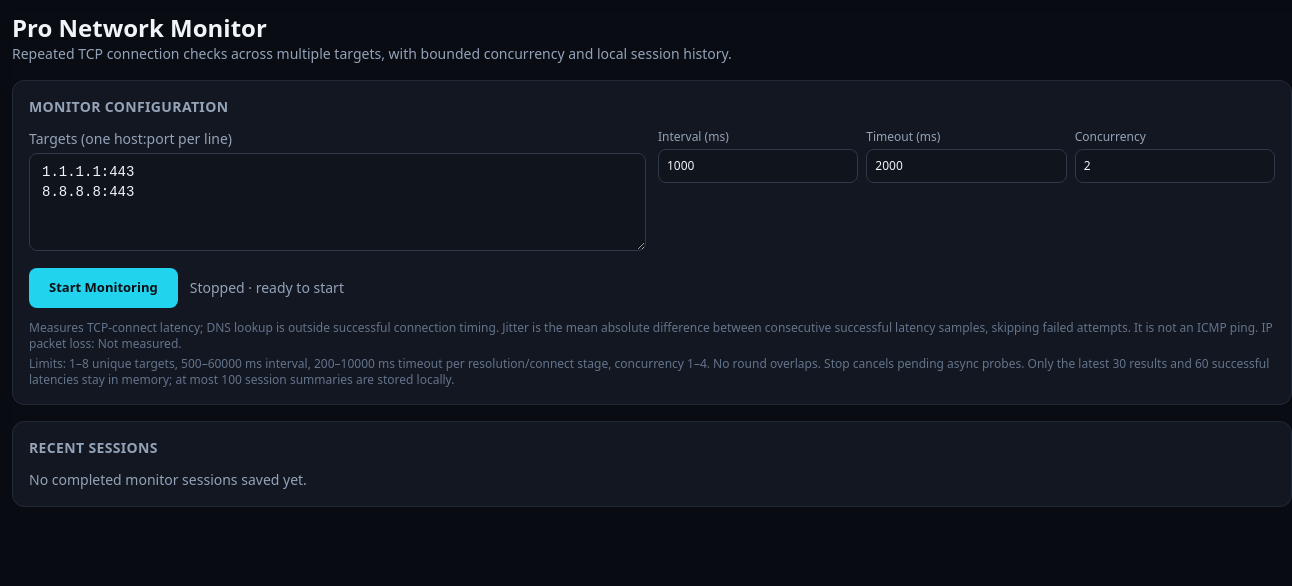
Test: Pro Network Monitor › shows backend start errors and remains restartable
The width and height of the screenshot is (1292, 586).
Click the button "Start Monitoring" at (103, 288), box [29, 268, 178, 308]
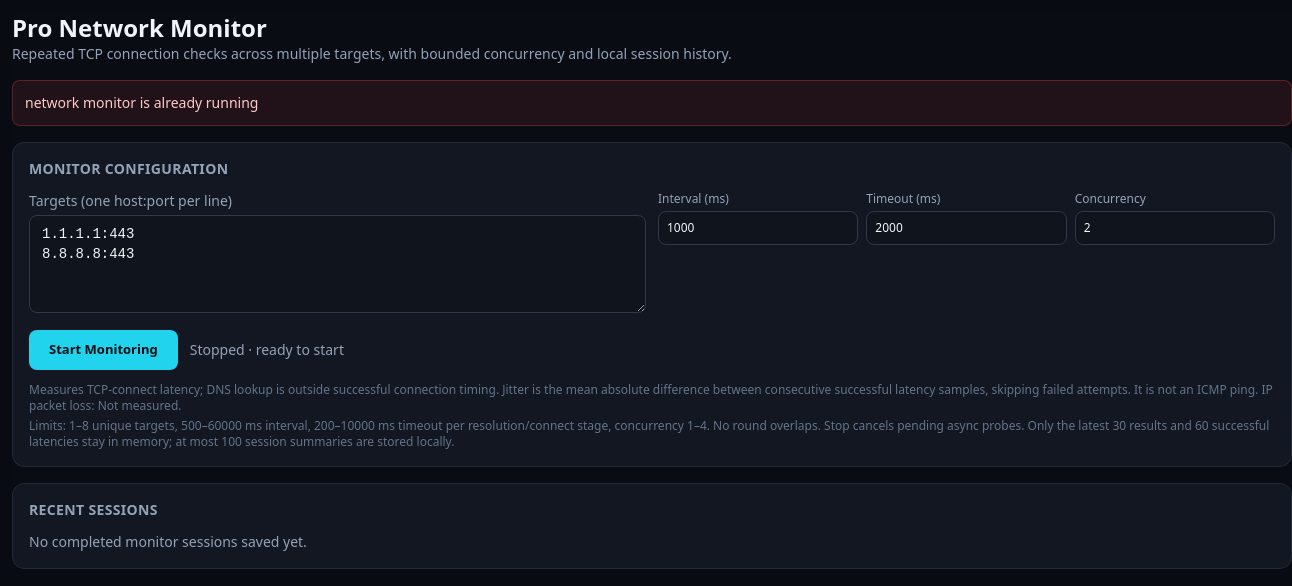
Expected: the button "Start Monitoring" is enabled, [29, 330, 178, 370]
Expected: the message shows "already running", [25, 93, 258, 112]
